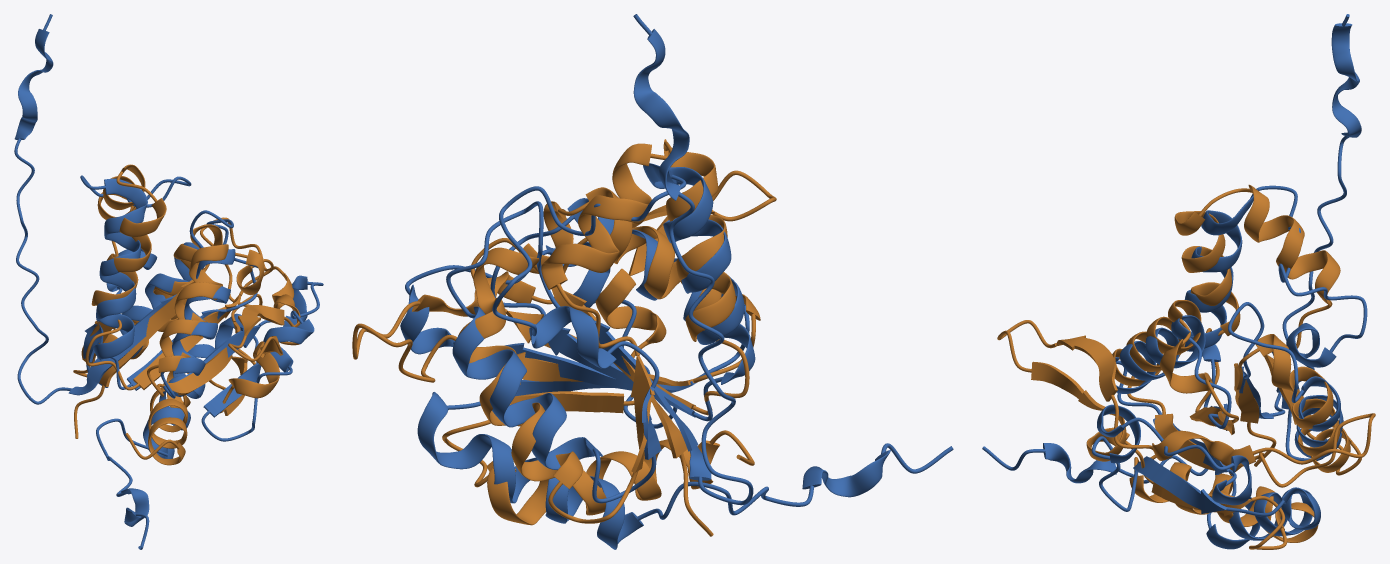
3 views of the same model, side by side, from view 1: azimuth 30°, elevation 25°; view 2: azimuth 150°, elevation 25°; view 3: azimuth 270°, elevation 25° (orthographic). The views are drawn at different scales.
Bounding box in the file's own units: 42.75 × 61.11 × 43.69.
